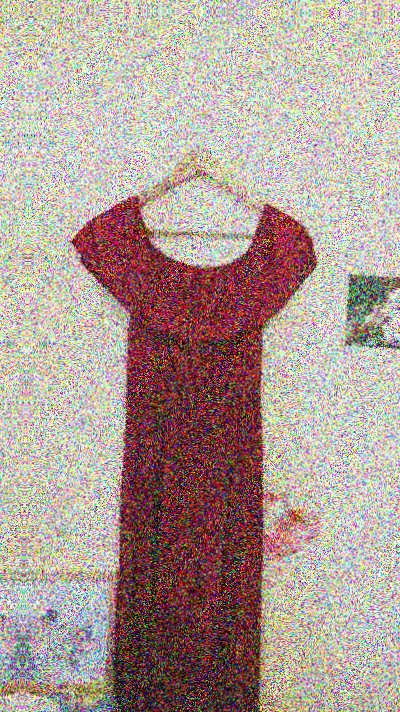Dress: (56, 131, 331, 712)
